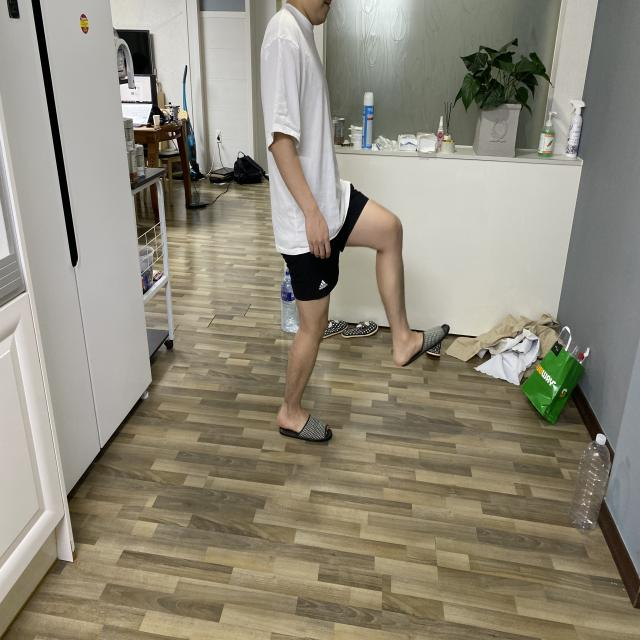no-boots: (272, 397, 337, 464), (386, 321, 458, 376)
